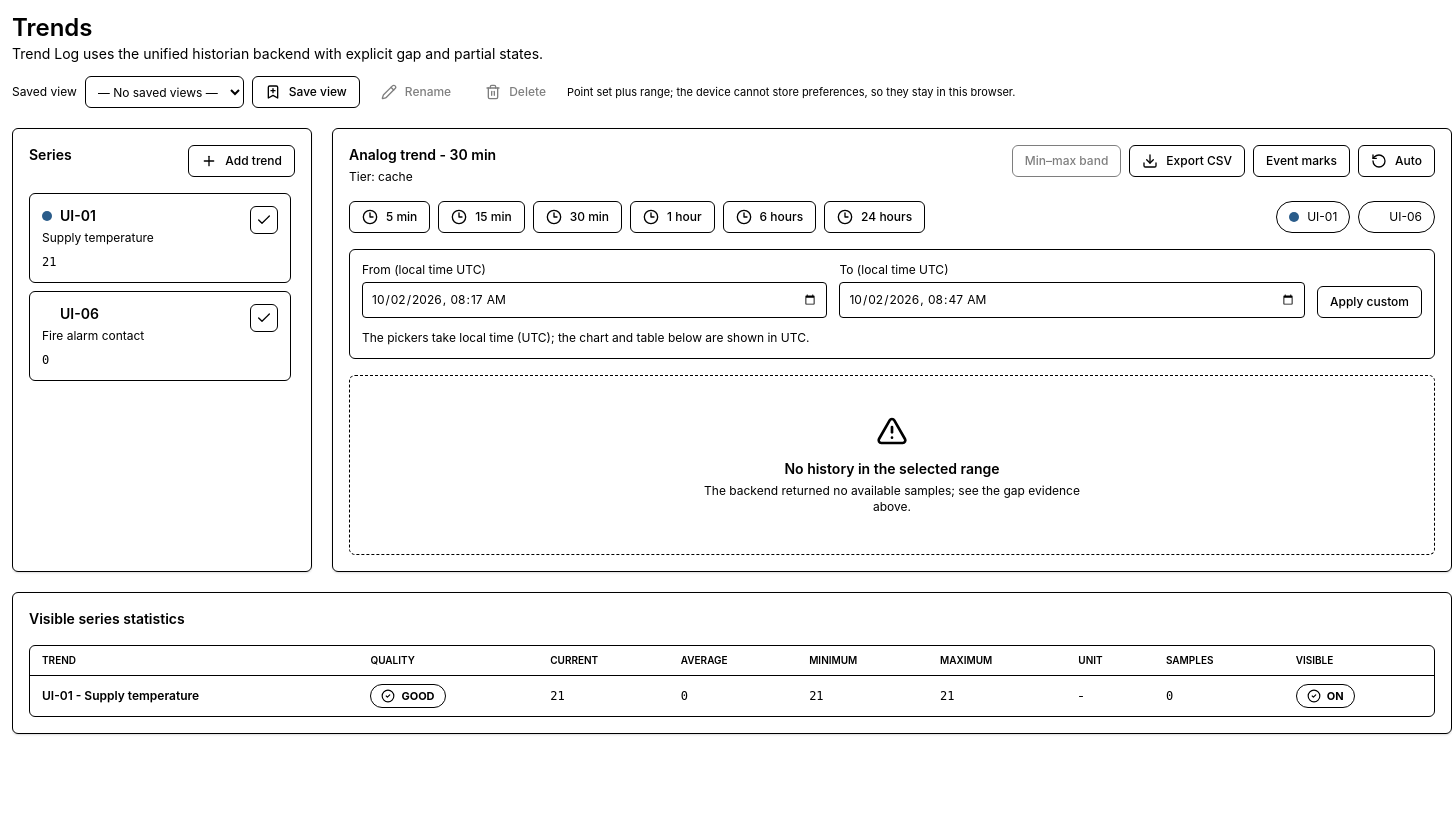
it: Trends history request routing › renders Custom through explicit database bounds without a legacy range
Replace the text in the field labelled "From (local time UTC)" with "2026-07-22T03:10" at (595,300), box [362,282,828,318]
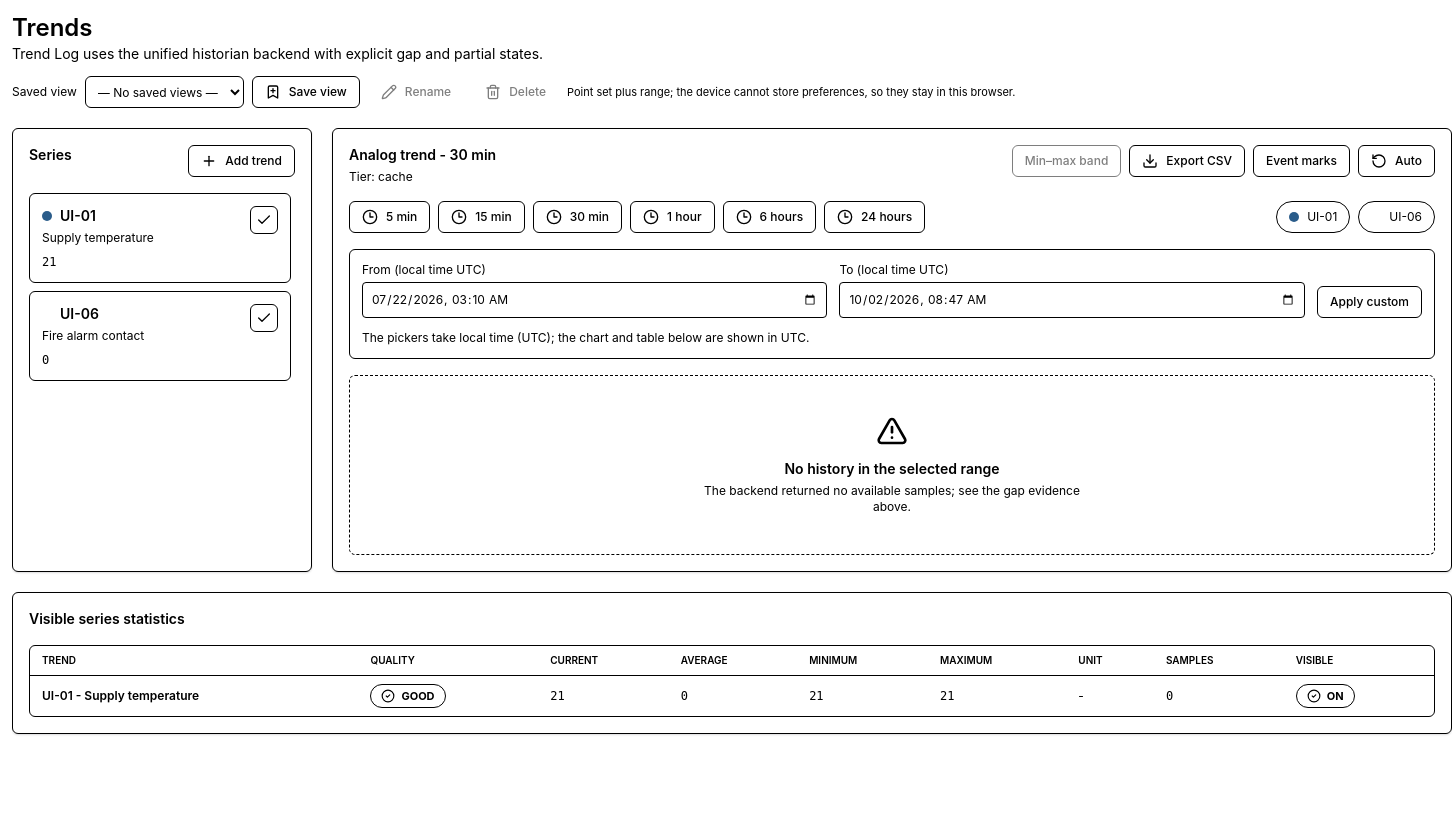
Replace the text in the field labelled "To (local time UTC)" with "2026-07-23T03:40" at (1072,300), box [840,282,1305,318]
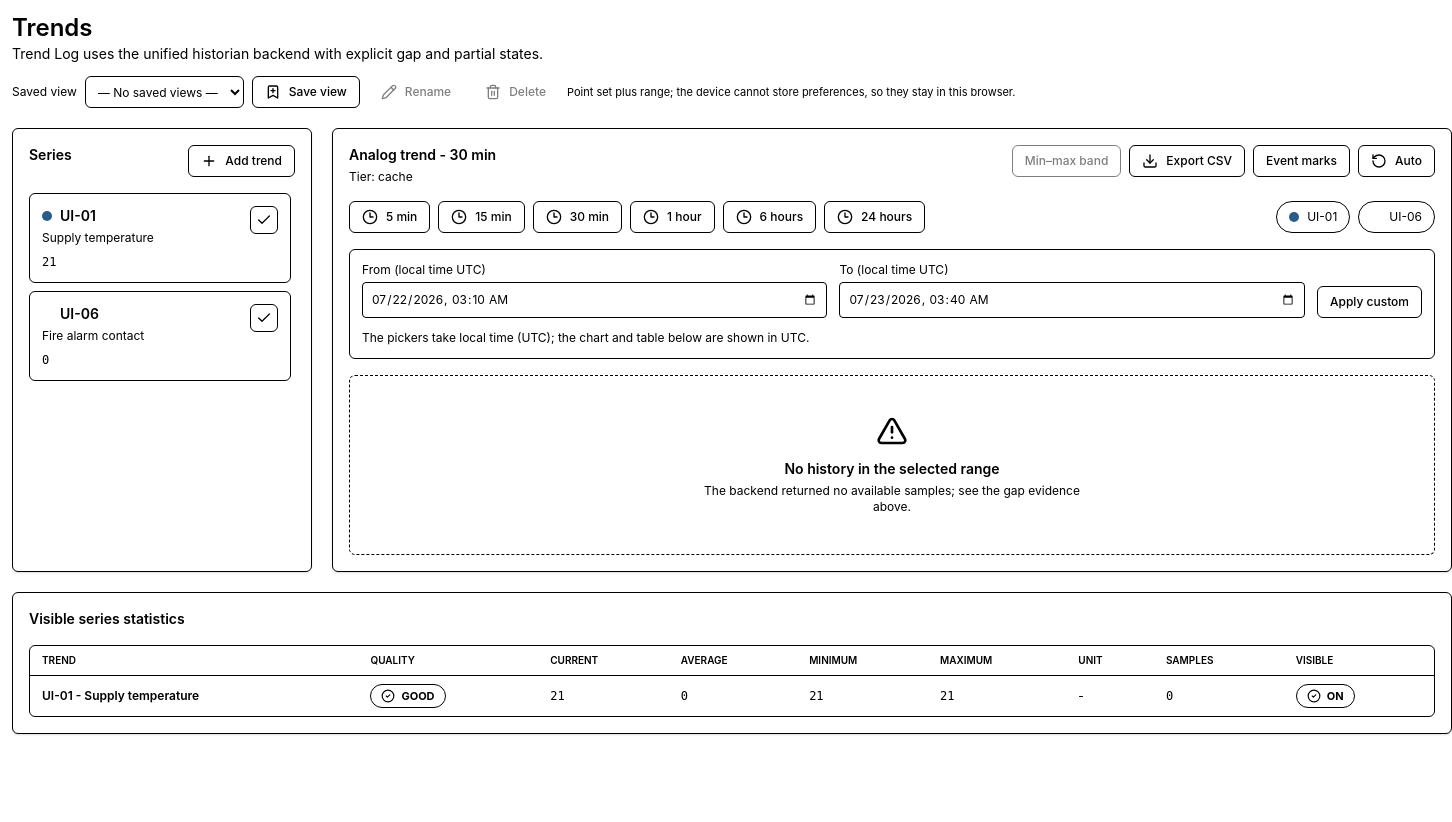
Click the button "Apply custom" at (1370,302), box [1317,286,1422,318]
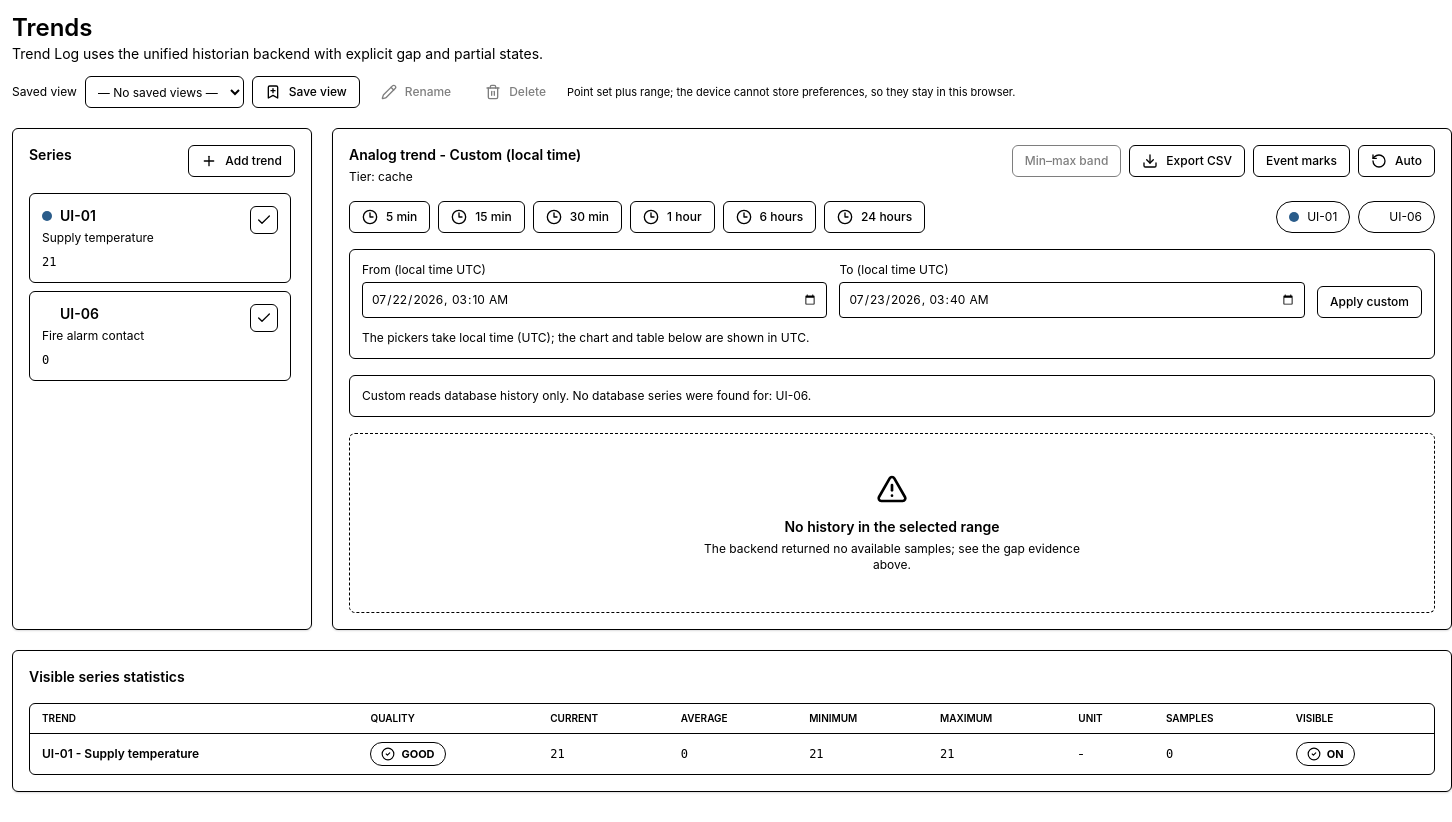
Expected: the heading "Analog trend - Custom (local time)" is shown, [349,145,581,165]
Expected: the text "Custom reads database history only. No database series were found for: UI-06." is shown, [349,375,1435,417]
